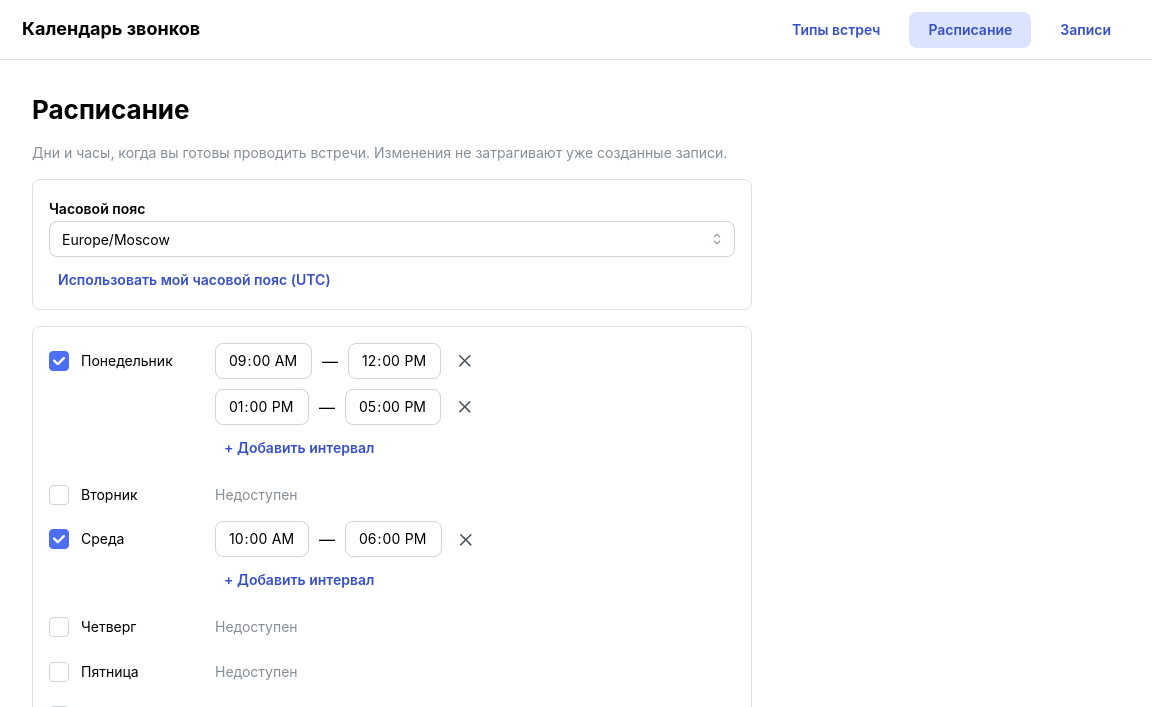
SchedulePage › does not send a range that ends before it starts
Replace the text in the time field named "Среда: конец интервала 1" with "08:00": (394, 540) [345, 522, 442, 558]
(page scrolled)
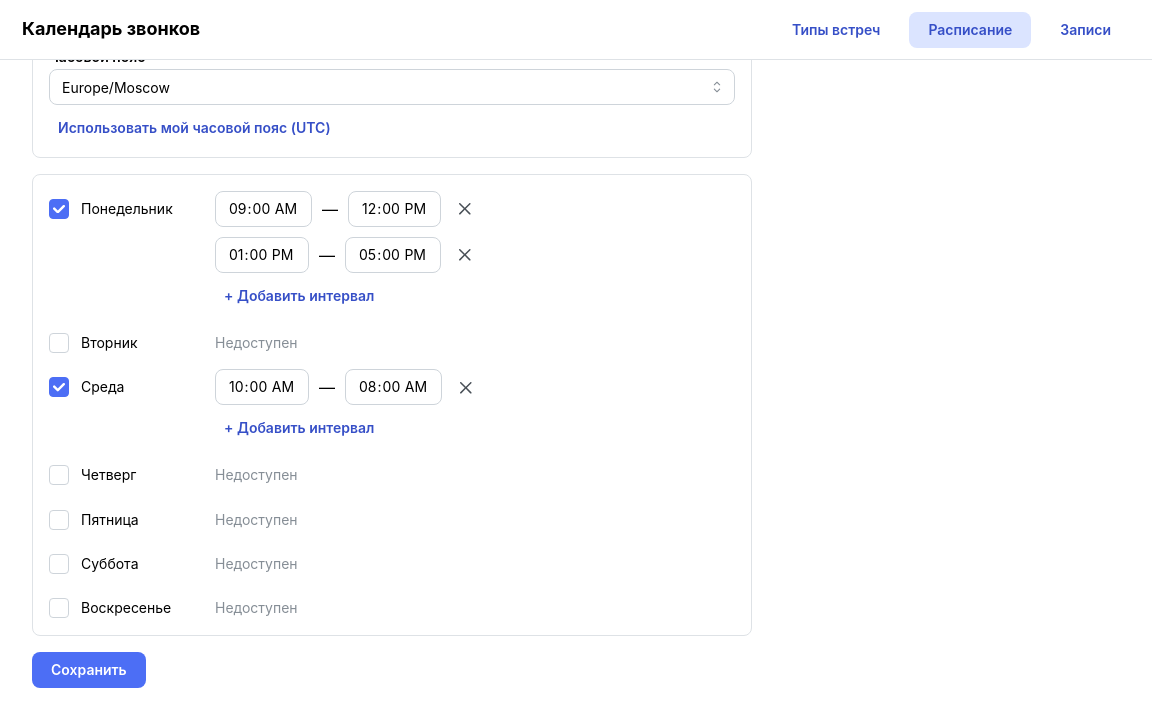
Click the button "Сохранить": (89, 670) [32, 652, 146, 688]
(page scrolled)
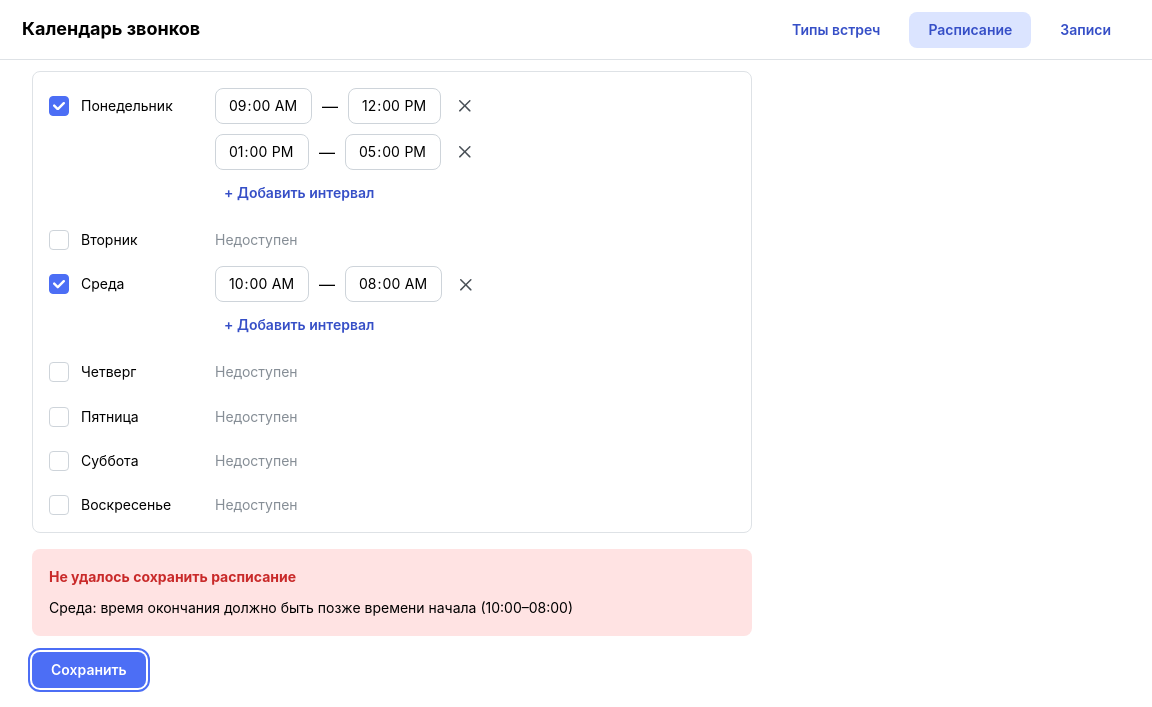
Result: the text "Среда: время окончания должно быть позже" is shown at [49, 599, 573, 616]
